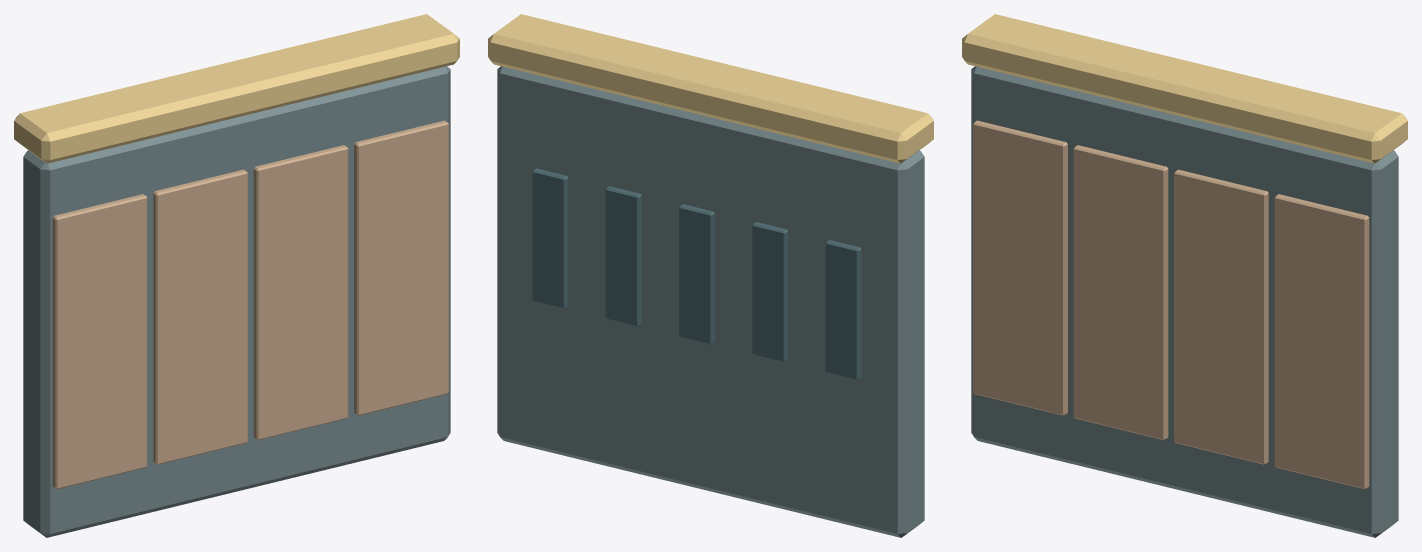
The model's file is interior_partition_1m.glb.
3 views of the same model, side by side, from view 1: azimuth 30°, elevation 25°; view 2: azimuth 150°, elevation 25°; view 3: azimuth 330°, elevation 25° (orthographic).
Parts seen in each view (by area): view 1: interior_partition_1m; view 2: interior_partition_1m; view 3: interior_partition_1m.
Part boxes in pixels (x1,y1,x2,y2): interior_partition_1m: (14,14,459,537); interior_partition_1m: (488,14,933,537); interior_partition_1m: (962,14,1407,537).
Bounding box in the file's own units: 1 × 0.935 × 0.14.
